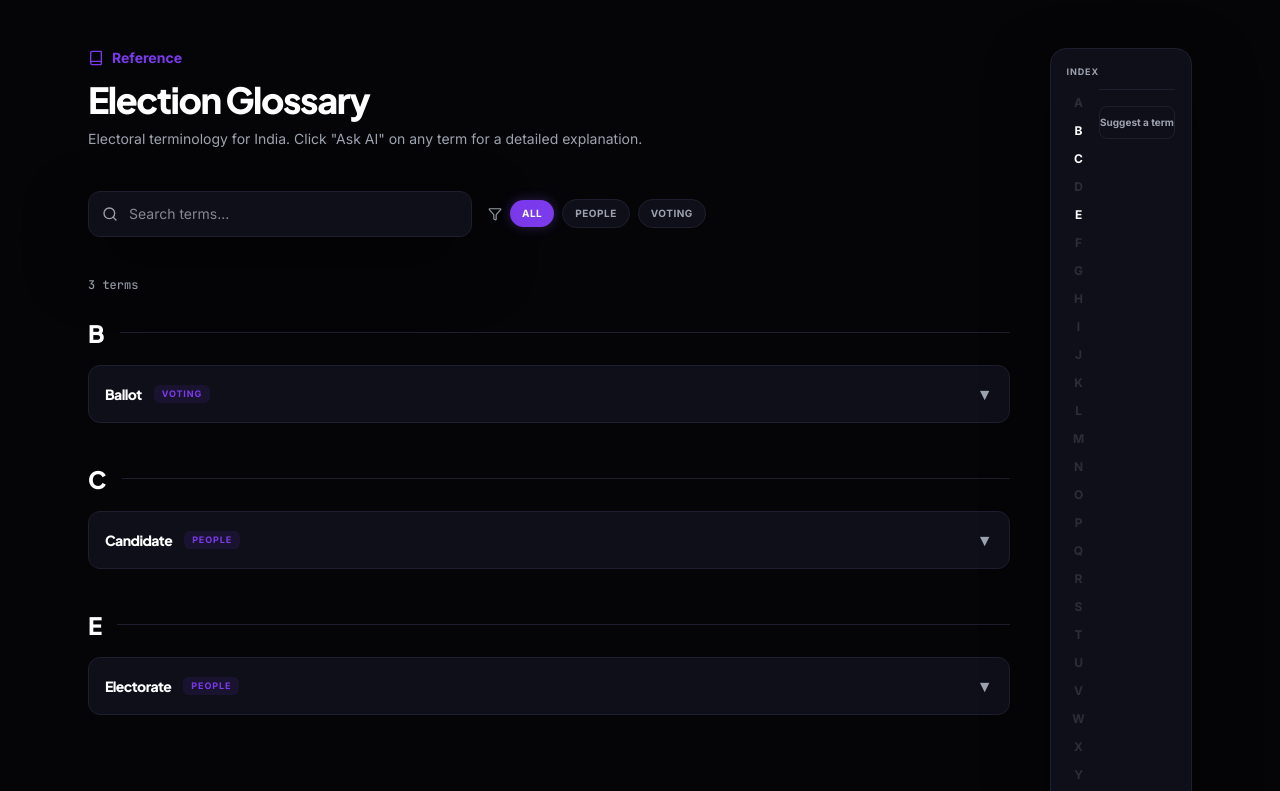
Glossary Page › filters by search term
Type "Ballot" into the field with placeholder "Search terms..." at (280, 214), box [88, 191, 472, 237]
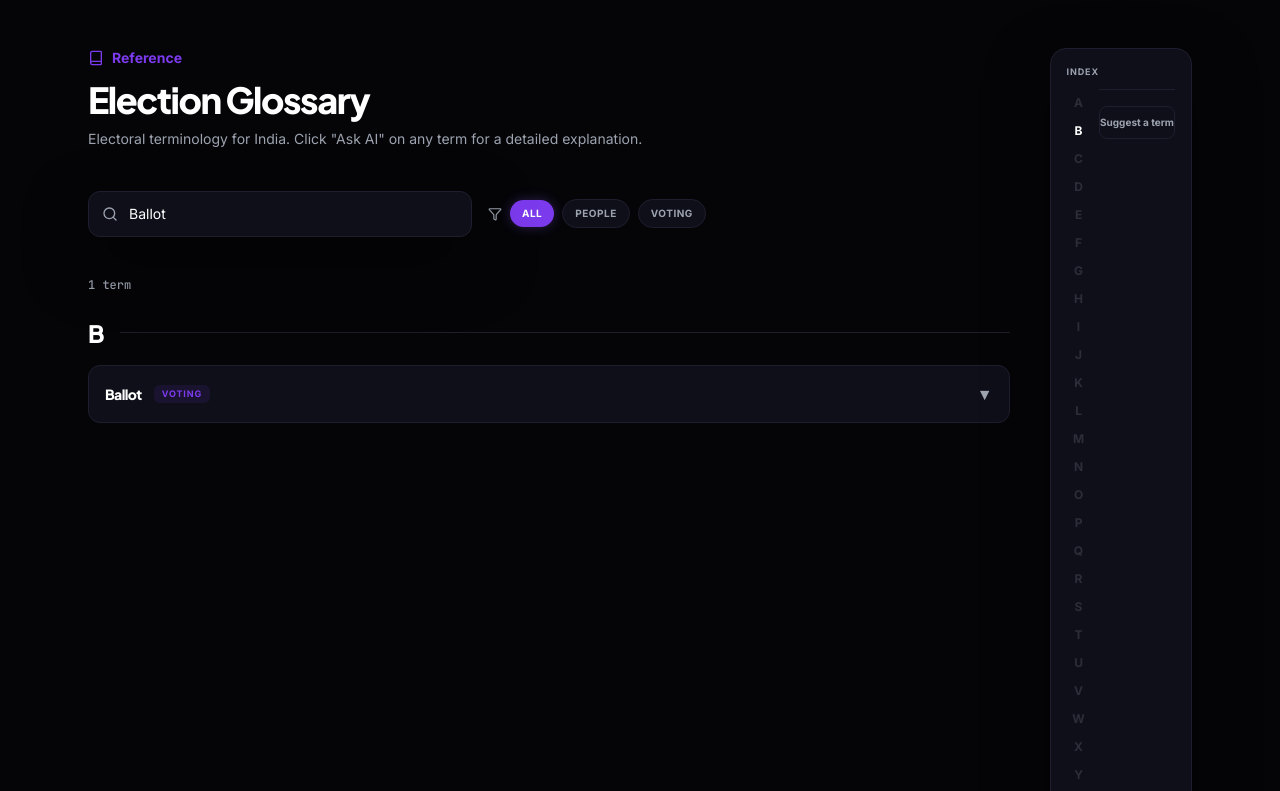
Expected: the heading "Ballot" is shown, [105, 384, 142, 404]
Now the text "1 term" is shown, box [88, 277, 131, 293]
